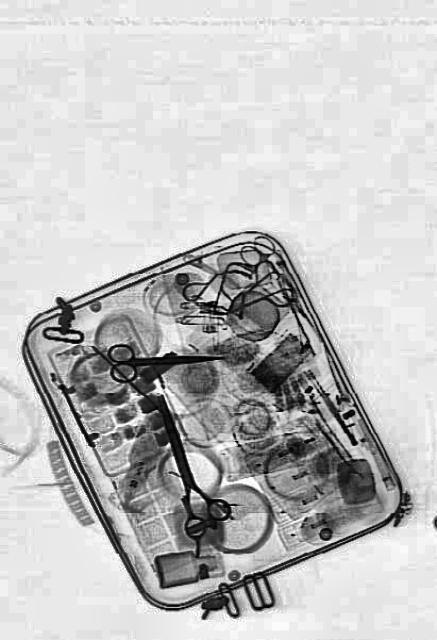Scissors: (142, 380, 232, 542), (108, 336, 222, 384)
